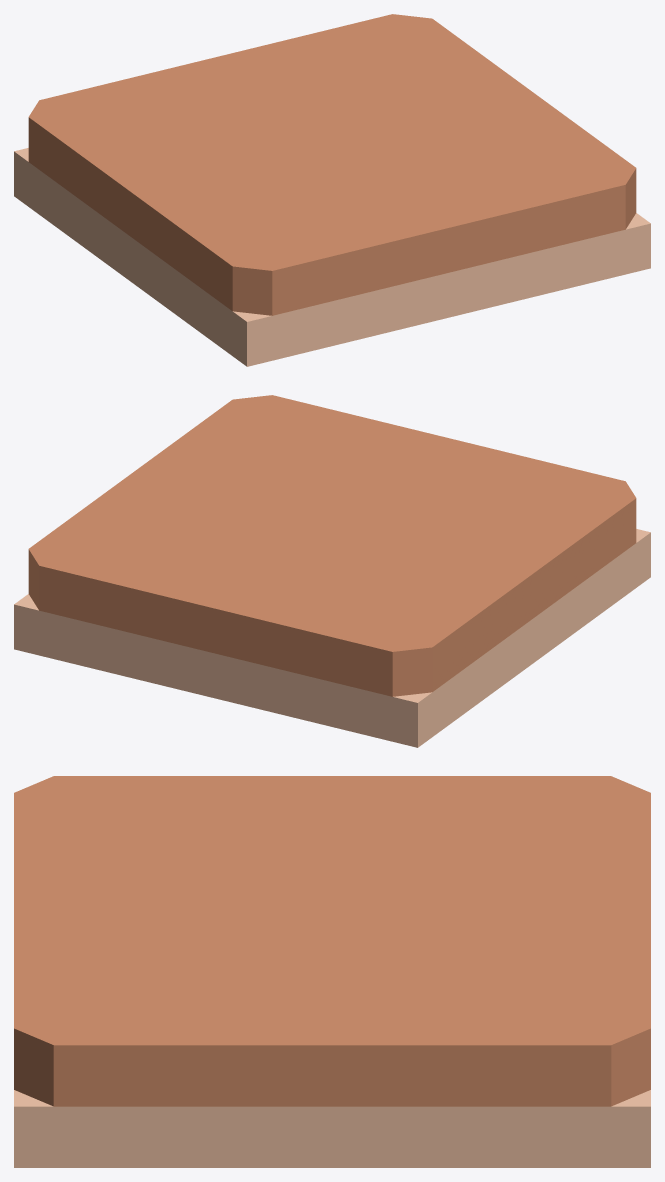
File: RoofFlatDetailA.fbx
3 views of the same model, one above another, from view 1: azimuth 30°, elevation 25°; view 2: azimuth 150°, elevation 25°; view 3: azimuth 270°, elevation 25° (orthographic). The views are drawn at different scales.
Visible parts, largest first — view 1: RoofFlatDetailA; view 2: RoofFlatDetailA; view 3: RoofFlatDetailA.
Boxes of the visible parts, x1,y1,x2,y2 form: RoofFlatDetailA: (14,14,650,366); RoofFlatDetailA: (14,395,650,747); RoofFlatDetailA: (14,776,650,1167).
Size of the model in its own units: 300 by 63.75 by 300.
